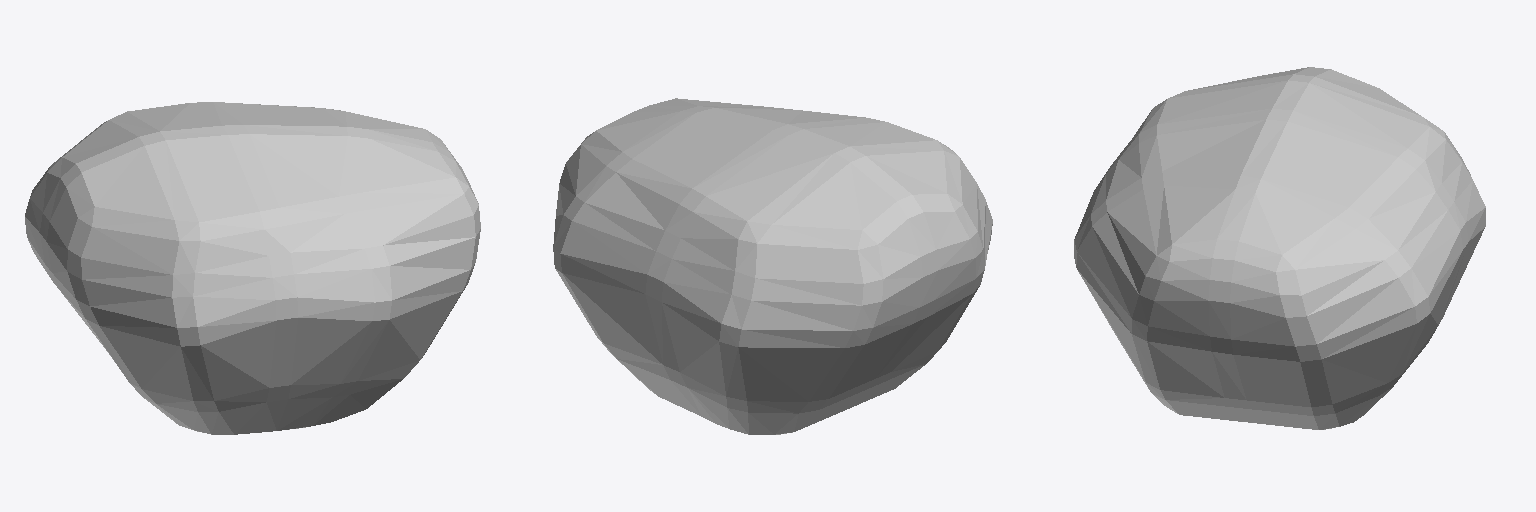
Rendered from BigBuske.obj.
The picture shows the model from 3 angles: view 1: azimuth 30°, elevation 25°; view 2: azimuth 150°, elevation 25°; view 3: azimuth 270°, elevation 25°; orthographic projection.
Visible parts, largest first — view 1: Cube.003; view 2: Cube.003; view 3: Cube.003.
Part boxes in pixels (x1,y1,x2,y2): Cube.003: (25, 102, 480, 434); Cube.003: (553, 98, 992, 434); Cube.003: (1074, 67, 1485, 429).
Bounding box in the file's own units: 2.63 × 1.69 × 2.37.